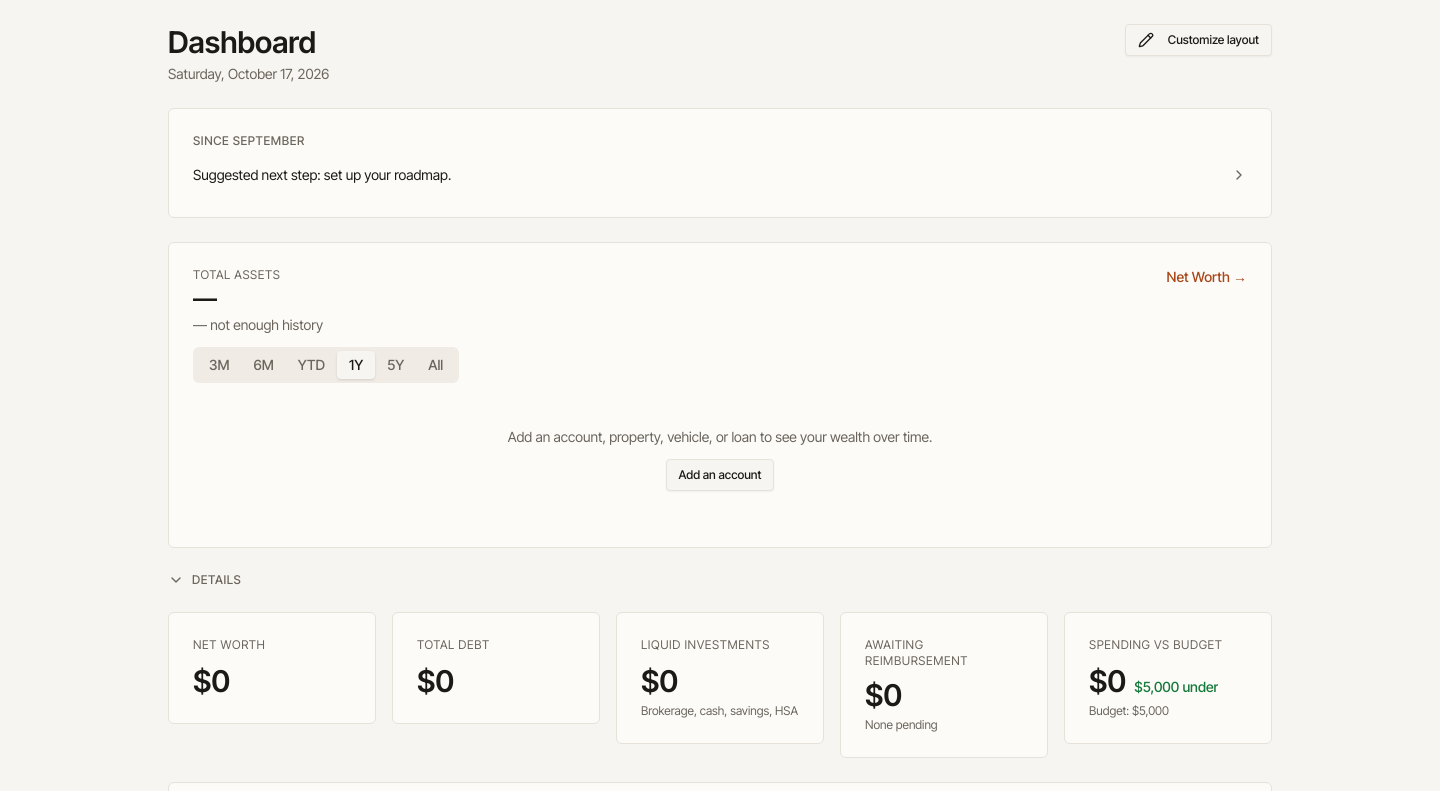
Test: Dashboard "Customize layout" button › labels the toggle "Customize layout" when off and "Done" when on
What coordinates should you click on to do the following:
click the button with test id "dashboard-edit-toggle"
I would click on:
 (1198, 40)
Its box is 1125,24 -> 1272,56.
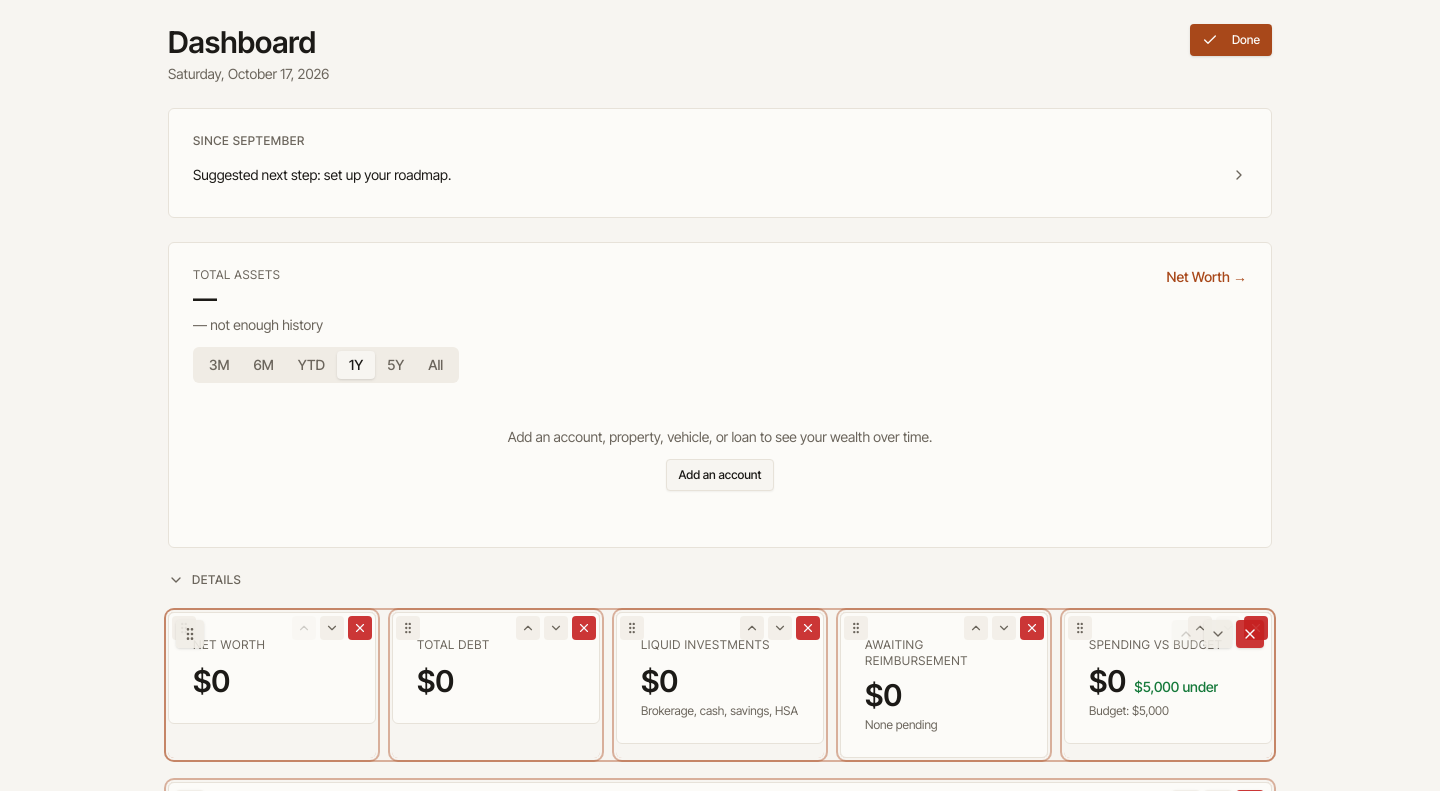
Now the button with test id "dashboard-edit-toggle" reads "Done", box 1190,24 -> 1272,56
